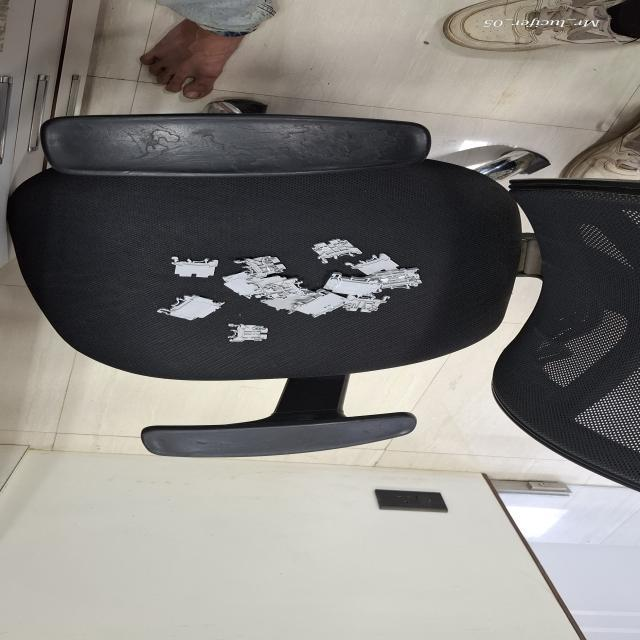Inverted: (170, 253, 222, 280)
Pass: (232, 254, 292, 279), (262, 278, 320, 300)
Reject: (304, 238, 363, 264), (337, 292, 391, 314), (226, 322, 270, 343)
